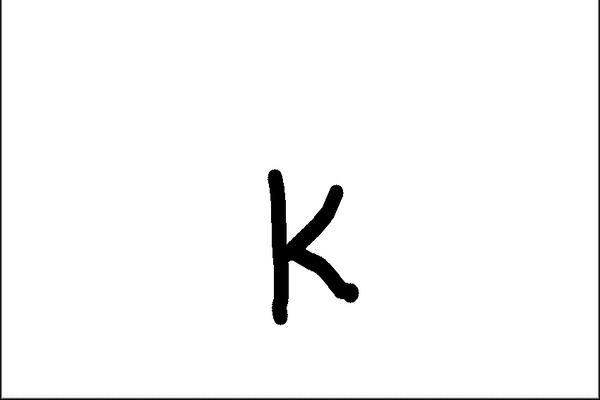K: (258, 160, 366, 336)
